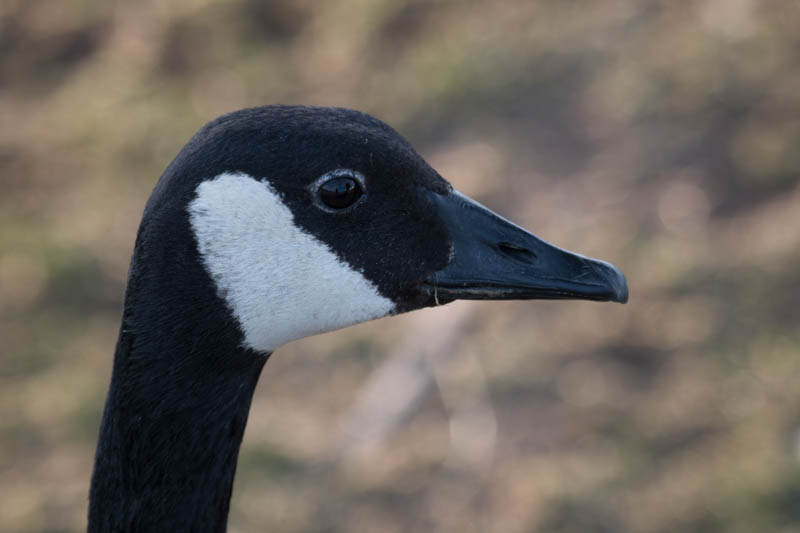goose-head: (114, 105, 629, 352)
